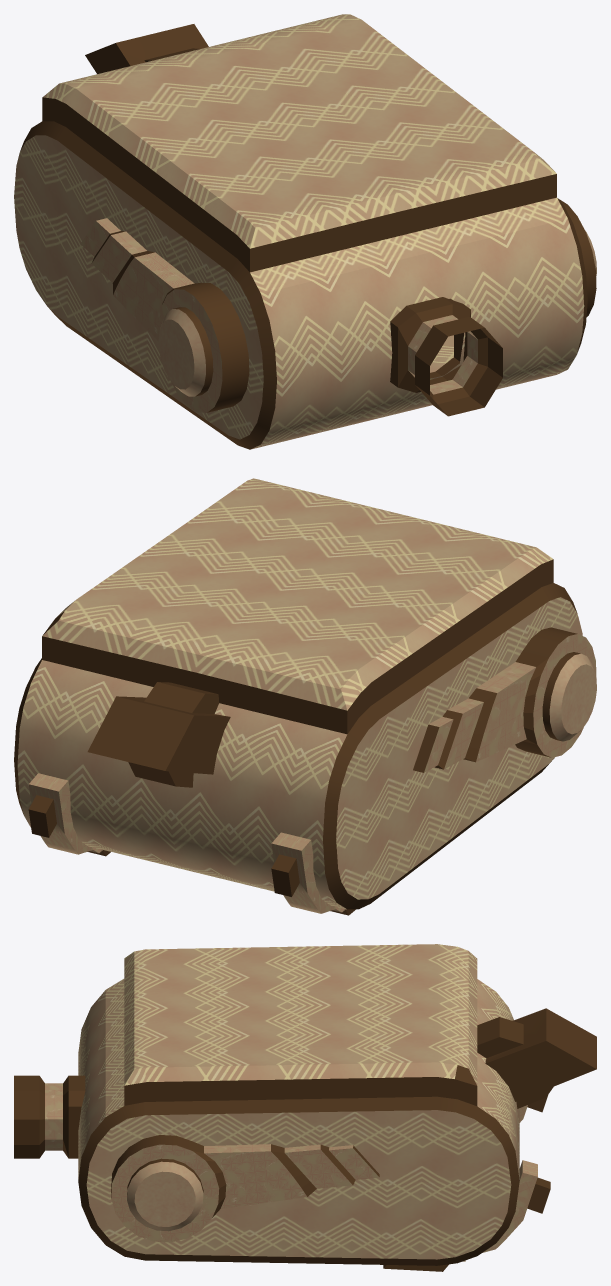
File: Test Chamber Exterior.fbx
3 renders of one model, top to bottom at view 1: azimuth 30°, elevation 25°; view 2: azimuth 150°, elevation 25°; view 3: azimuth 270°, elevation 25°, orthographic. The views are drawn at different scales.
Parts seen in each view (by area): view 1: Testing_Chamber_Exterior; view 2: Testing_Chamber_Exterior; view 3: Testing_Chamber_Exterior.
Boxes of the visible parts, x1,y1,x2,y2 form: Testing_Chamber_Exterior: (14,14,596,449); Testing_Chamber_Exterior: (14,478,596,915); Testing_Chamber_Exterior: (14,944,596,1271).
Size of the model in its own units: 50.02 by 29.44 by 73.74.
